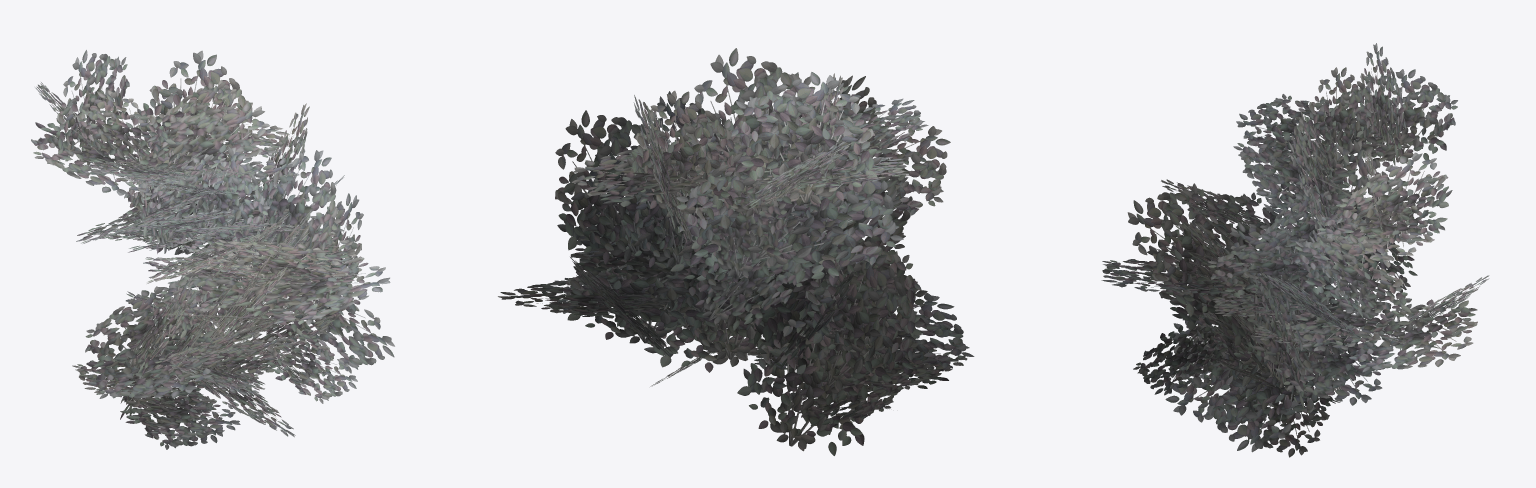
The model's file is acacia_l2.gltf.
3 views of the same model, side by side, from view 1: azimuth 30°, elevation 25°; view 2: azimuth 150°, elevation 25°; view 3: azimuth 270°, elevation 25° (orthographic). The views are drawn at different scales.
Visible parts, largest first — view 1: acacia_l2; view 2: acacia_l2; view 3: acacia_l2.
Part boxes in pixels (<box>): acacia_l2: <box>31,50,394,449</box>; acacia_l2: <box>498,48,974,455</box>; acacia_l2: <box>1101,43,1489,457</box>.
Size of the model in its own units: 9.36 by 8.92 by 10.6.
Materials: 1 (1 with a texture image).
